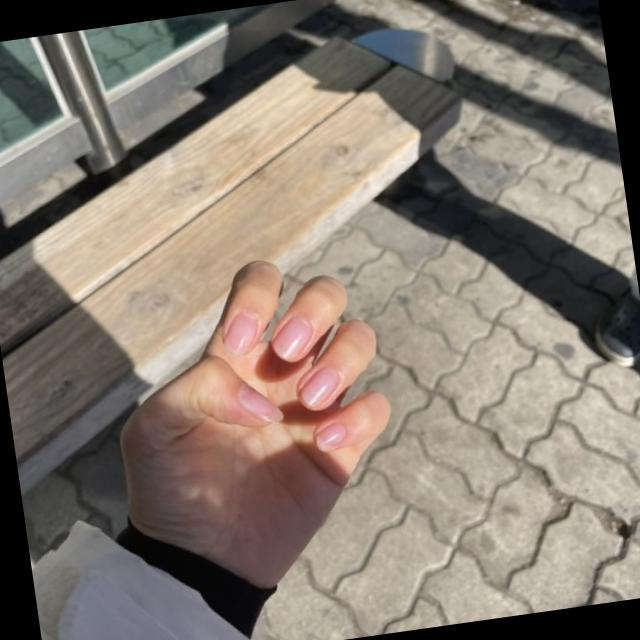Nail: (238, 384, 285, 422), (273, 317, 312, 361), (300, 367, 339, 408), (224, 314, 258, 356), (316, 423, 347, 452)
